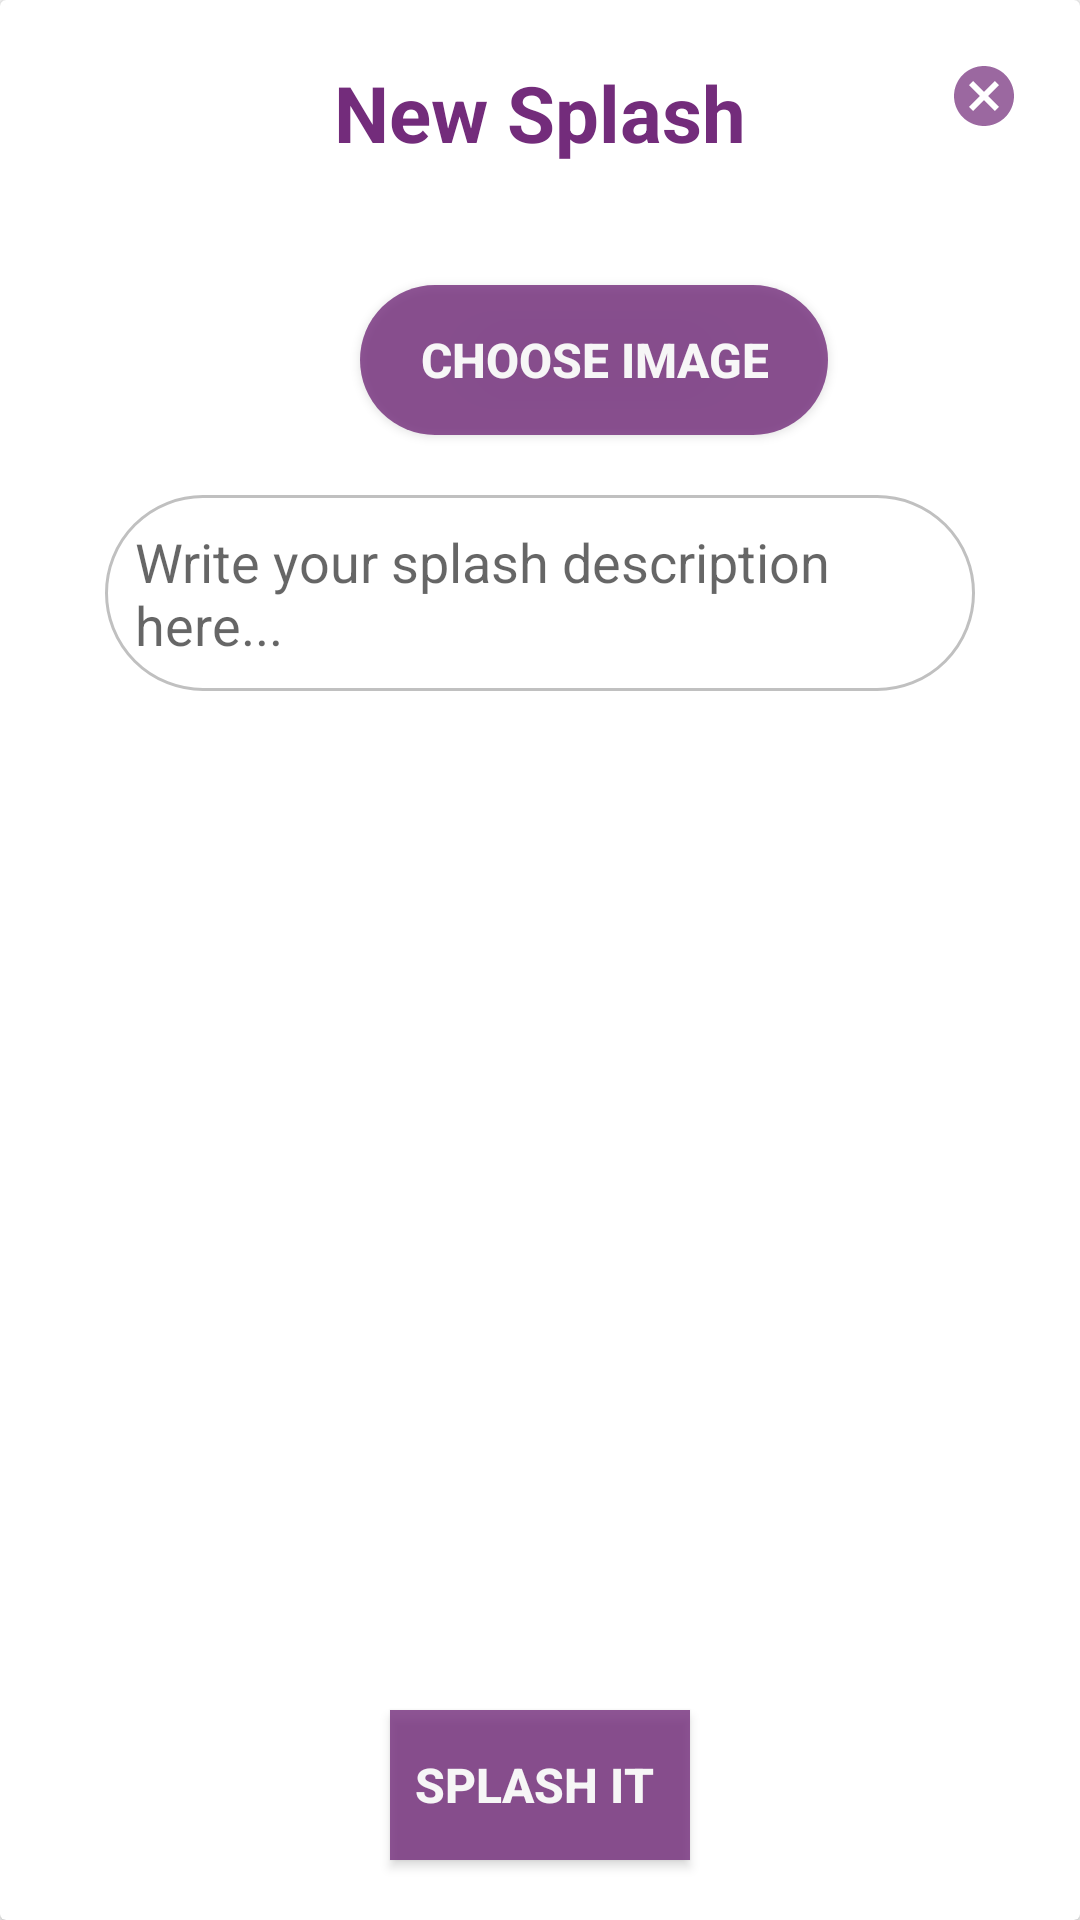

Icon bounding boxes for this 1080 x 1920 phone screenshot, format (x1, y1, x2, y2):
cancel: (954, 66, 1014, 126)
